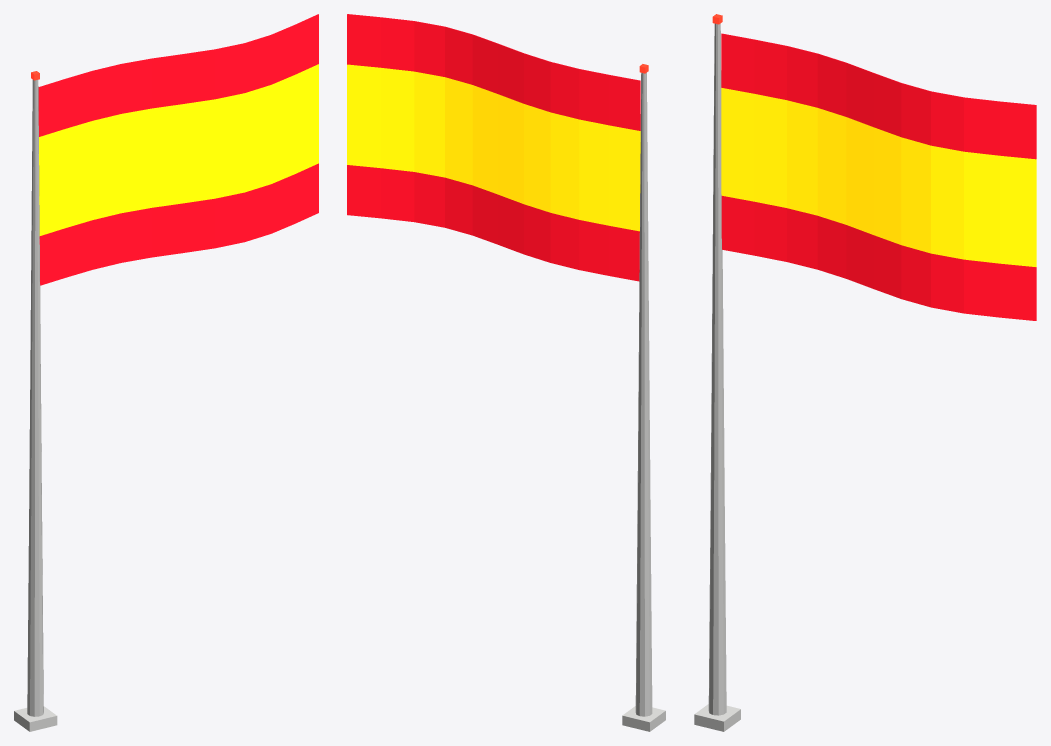
Rendered from mad_flag.glb.
The picture shows the model from 3 angles, left to right: view 1: azimuth 30°, elevation 25°; view 2: azimuth 150°, elevation 25°; view 3: azimuth 330°, elevation 25°; orthographic projection. The views are drawn at different scales.
Visible parts, largest first — view 1: madring-flag; view 2: madring-flag; view 3: madring-flag.
Boxes of the visible parts, left/top/right/bottom form: madring-flag: left=14, top=14, right=318, bottom=731; madring-flag: left=347, top=14, right=665, bottom=731; madring-flag: left=694, top=14, right=1036, bottom=731.
Size of the model in its own units: 26.5 by 54.5 by 2.4.
